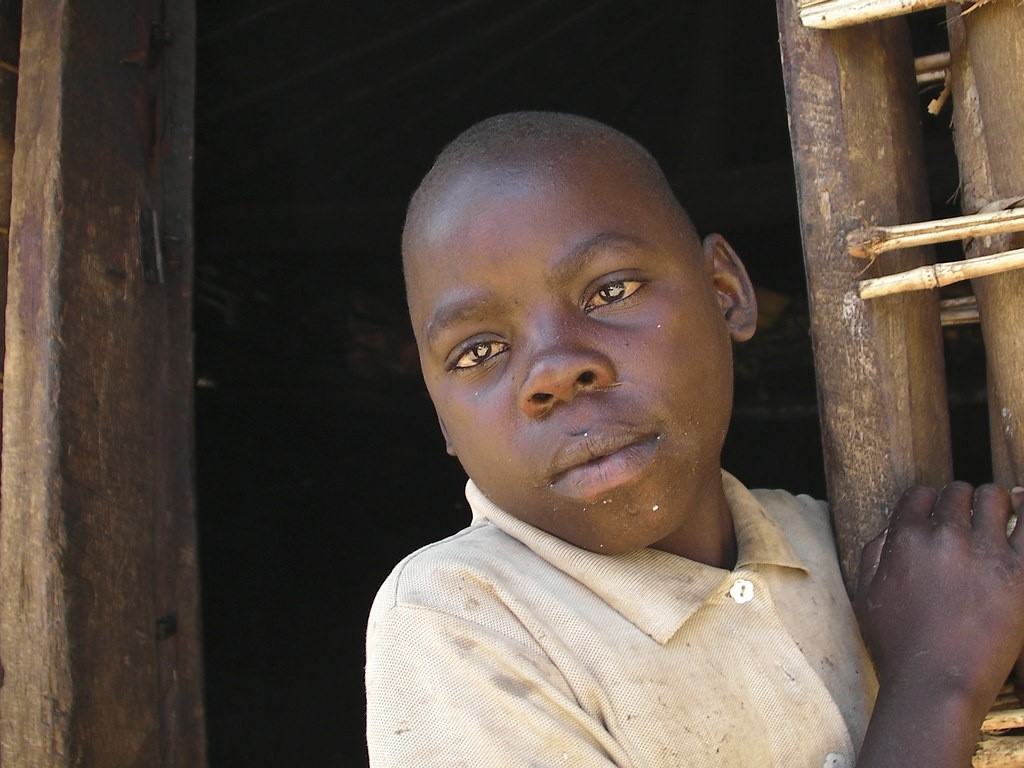face_no_mask: (402, 108, 758, 562)
